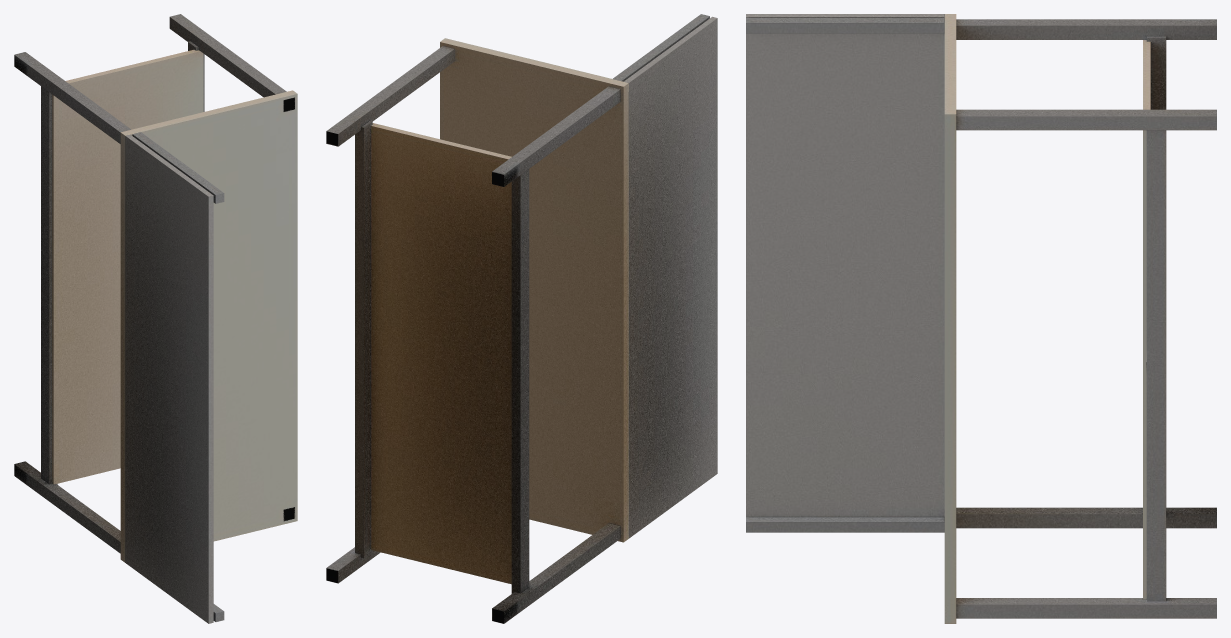
The picture shows the model from 3 angles, left to right: view 1: azimuth 30°, elevation 25°; view 2: azimuth 150°, elevation 25°; view 3: azimuth 270°, elevation 25°; orthographic projection. The views are drawn at different scales.
Visible parts, largest first — view 1: A3_final.001; view 2: A3_final.001; view 3: A3_final.001.
Part boxes in pixels (bbox=[...]): A3_final.001: bbox=[14, 14, 297, 623]; A3_final.001: bbox=[326, 14, 717, 623]; A3_final.001: bbox=[746, 14, 1216, 623].
Bounding box in the file's own units: 0.61 × 1.45 × 1.21.
Materials: 1 (1 with a texture image).
